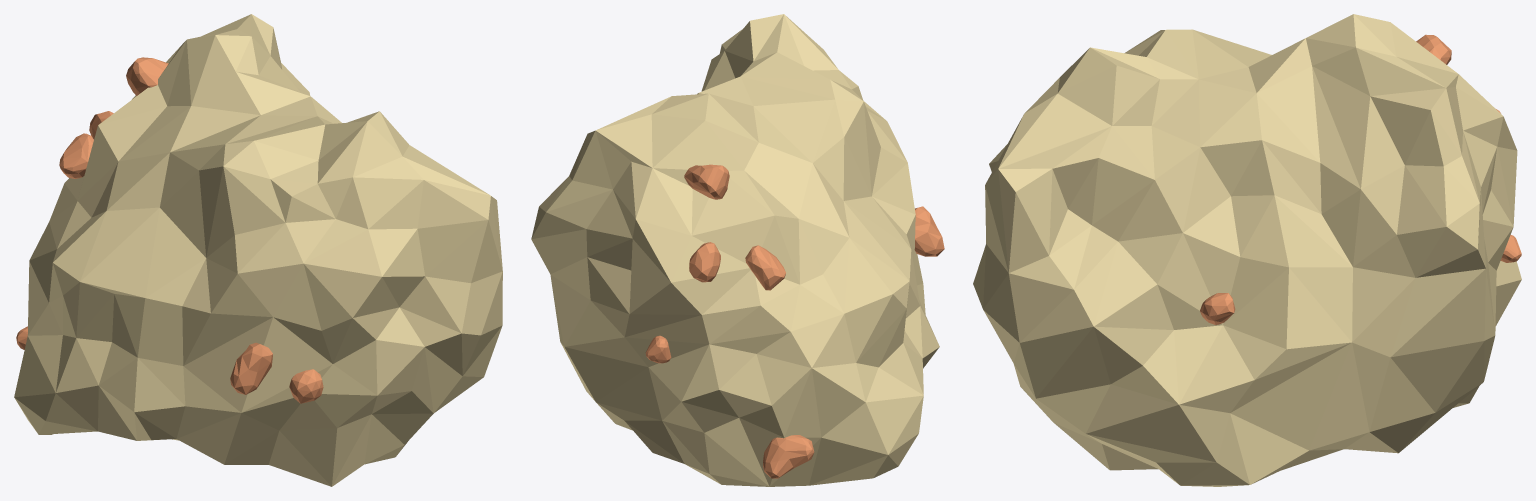
Rendered from StoneOre (58).fbx.
The picture shows the model from 3 angles, left to right: view 1: azimuth 30°, elevation 25°; view 2: azimuth 150°, elevation 25°; view 3: azimuth 270°, elevation 25°; orthographic projection. The views are drawn at different scales.
Parts seen in each view (by area): view 1: Asteroid345; view 2: Asteroid345; view 3: Asteroid345.
Boxes of the visible parts, left/top/right/bottom form: Asteroid345: left=14, top=14, right=502, bottom=486; Asteroid345: left=531, top=14, right=944, bottom=486; Asteroid345: left=973, top=14, right=1521, bottom=486.
Bounding box in the file's own units: 393 × 394 × 452.
